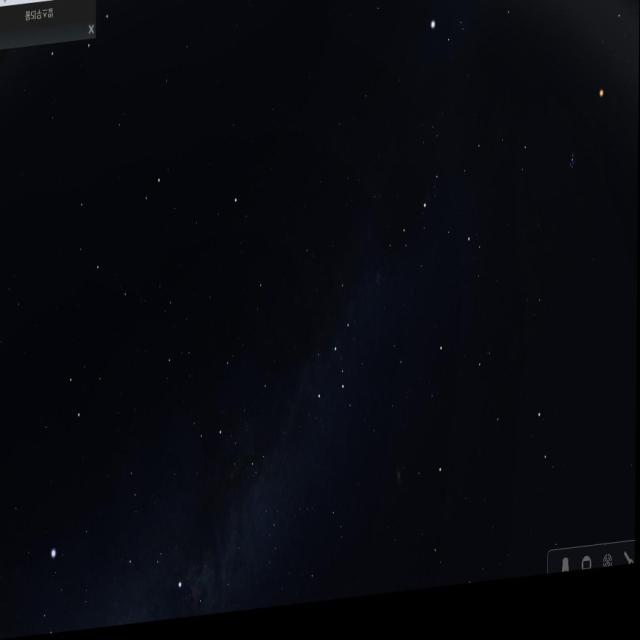cassiopeia: (305, 269, 369, 440)
pleiades: (568, 146, 583, 192)
